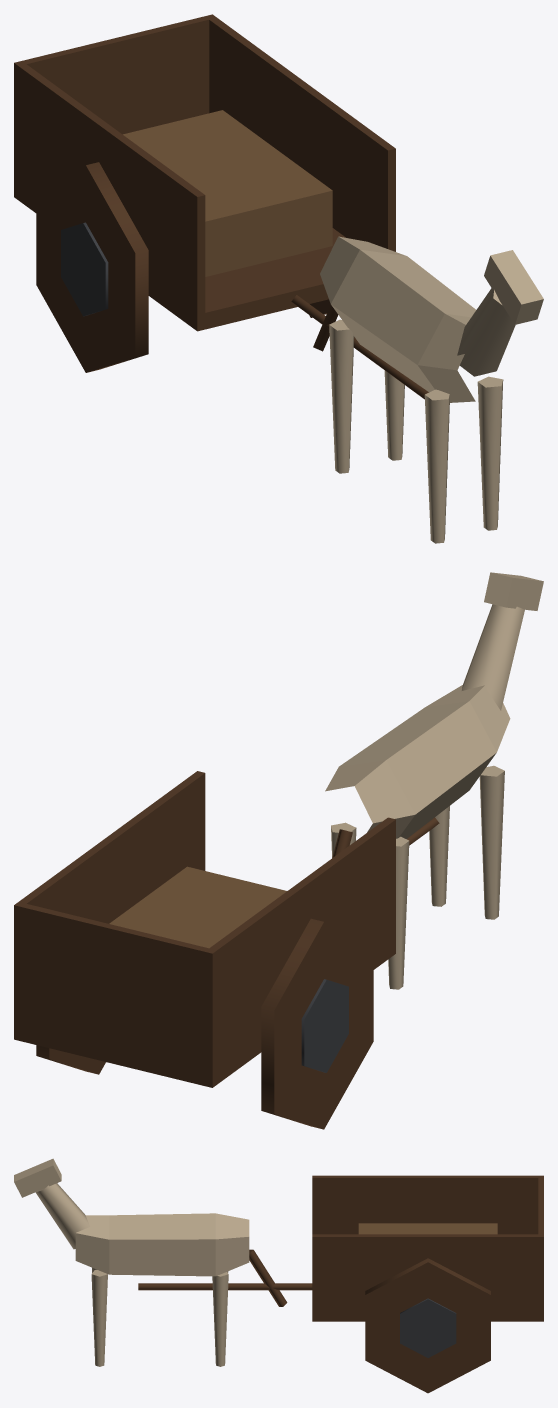
File: veh_ground_cart_a04_lod1.glb
3 renders of one model, top to bottom at view 1: azimuth 30°, elevation 25°; view 2: azimuth 150°, elevation 25°; view 3: azimuth 270°, elevation 25°, orthographic. The views are drawn at different scales.
Parts seen in each view (by area): view 1: body, animal_0, wheel_0; view 2: body, animal_0, wheel_0, wheel_1; view 3: body, animal_0, wheel_1.
Boxes of the visible parts, <box> form: body: <box>14,14,428,399</box>; animal_0: <box>313,236,543,543</box>; wheel_0: <box>36,162,148,372</box>; body: <box>14,771,439,1087</box>; animal_0: <box>325,572,543,989</box>; wheel_0: <box>261,918,373,1129</box>; wheel_1: <box>36,1045,105,1074</box>; body: <box>138,1175,543,1321</box>; animal_0: <box>14,1158,287,1366</box>; wheel_1: <box>365,1258,490,1393</box>.
Bounding box in the file's own units: 1.84 × 2.23 × 5.49.
